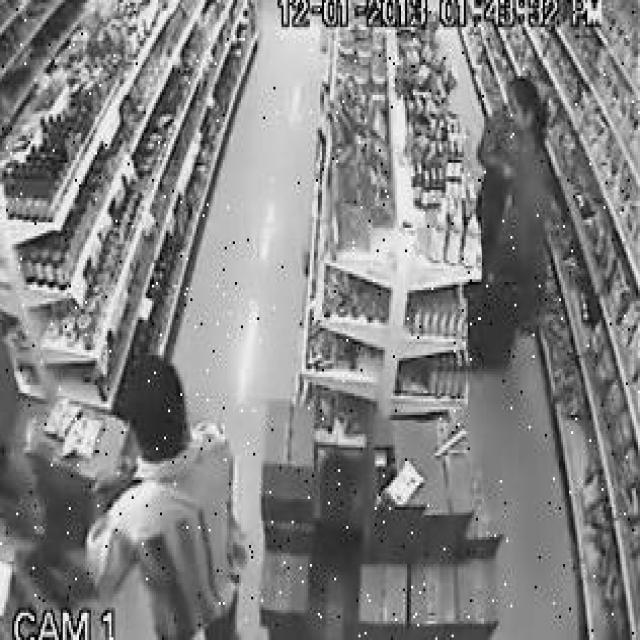Shoplifting: (457, 63, 584, 405)
